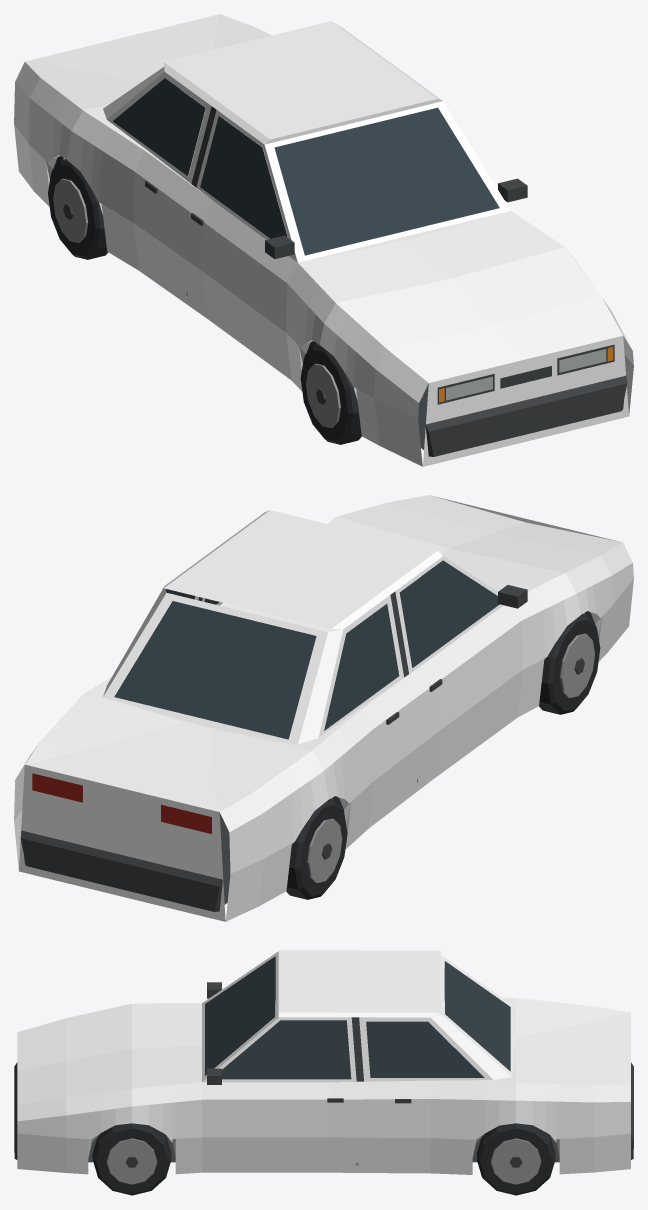
The model's file is vorhaus_taucher.glb.
3 renders of one model, top to bottom at view 1: azimuth 30°, elevation 25°; view 2: azimuth 150°, elevation 25°; view 3: azimuth 270°, elevation 25°, orthographic. The views are drawn at different scales.
Parts seen in each view (by area): view 1: vorhaus_taucher; view 2: vorhaus_taucher; view 3: vorhaus_taucher.
Boxes of the visible parts, x1,y1,x2,y2 form: vorhaus_taucher: [14, 14, 633, 466]; vorhaus_taucher: [14, 495, 633, 921]; vorhaus_taucher: [14, 950, 633, 1195].
Size of the model in its own units: 1.84 by 1.49 by 4.97.
Materials: 8 (1 with a texture image).
